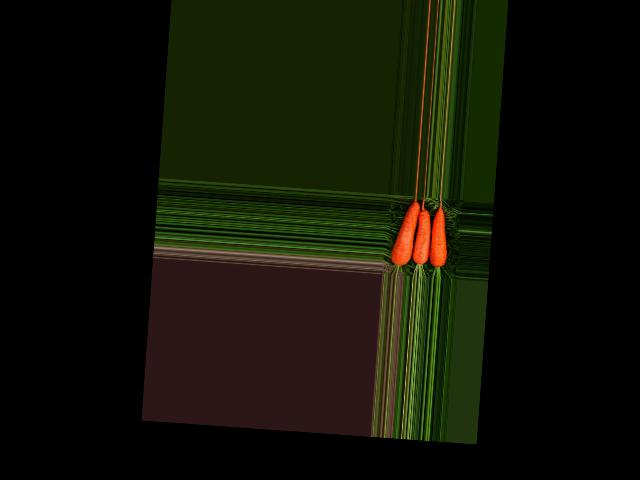carrot: (389, 199, 420, 267)
